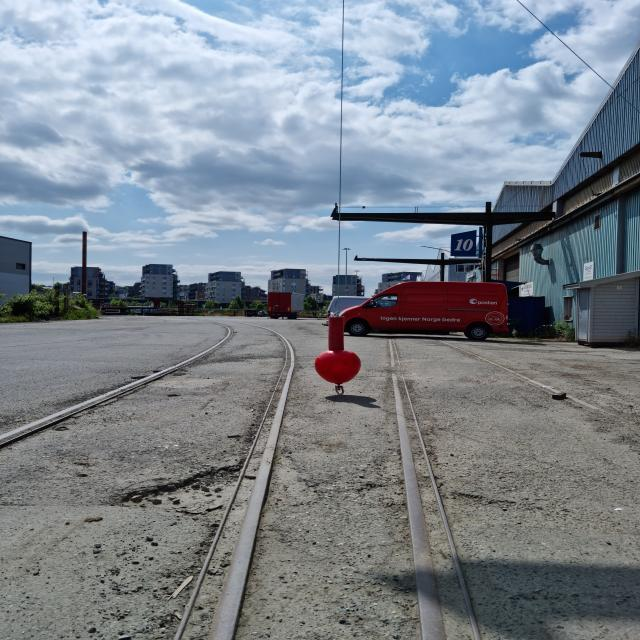red: (315, 316, 361, 384)
